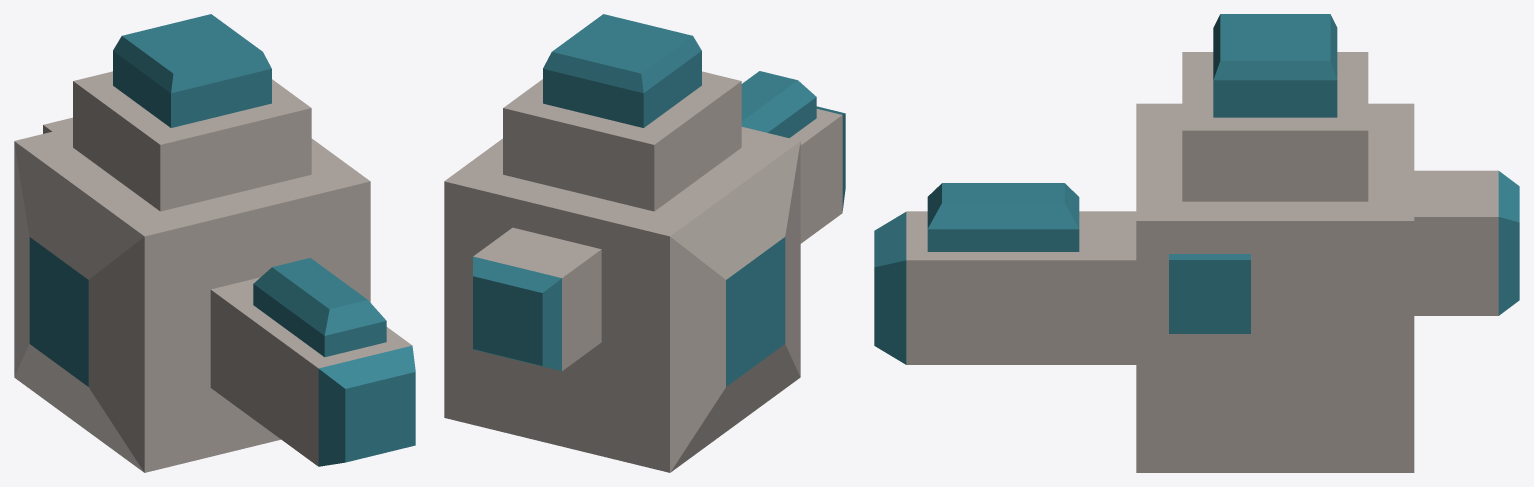
Rendered from Poof.fbx.
3 views of the same model, side by side, from view 1: azimuth 30°, elevation 25°; view 2: azimuth 150°, elevation 25°; view 3: azimuth 270°, elevation 25° (orthographic). The views are drawn at different scales.
Visible parts, largest first — view 1: Cube.056; view 2: Cube.056; view 3: Cube.056.
Boxes of the visible parts, left/top/right/bottom form: Cube.056: left=14, top=14, right=415, bottom=472; Cube.056: left=444, top=14, right=845, bottom=472; Cube.056: left=874, top=14, right=1519, bottom=472.
Size of the model in its own units: 0.9995 by 1.31 by 2.03.
